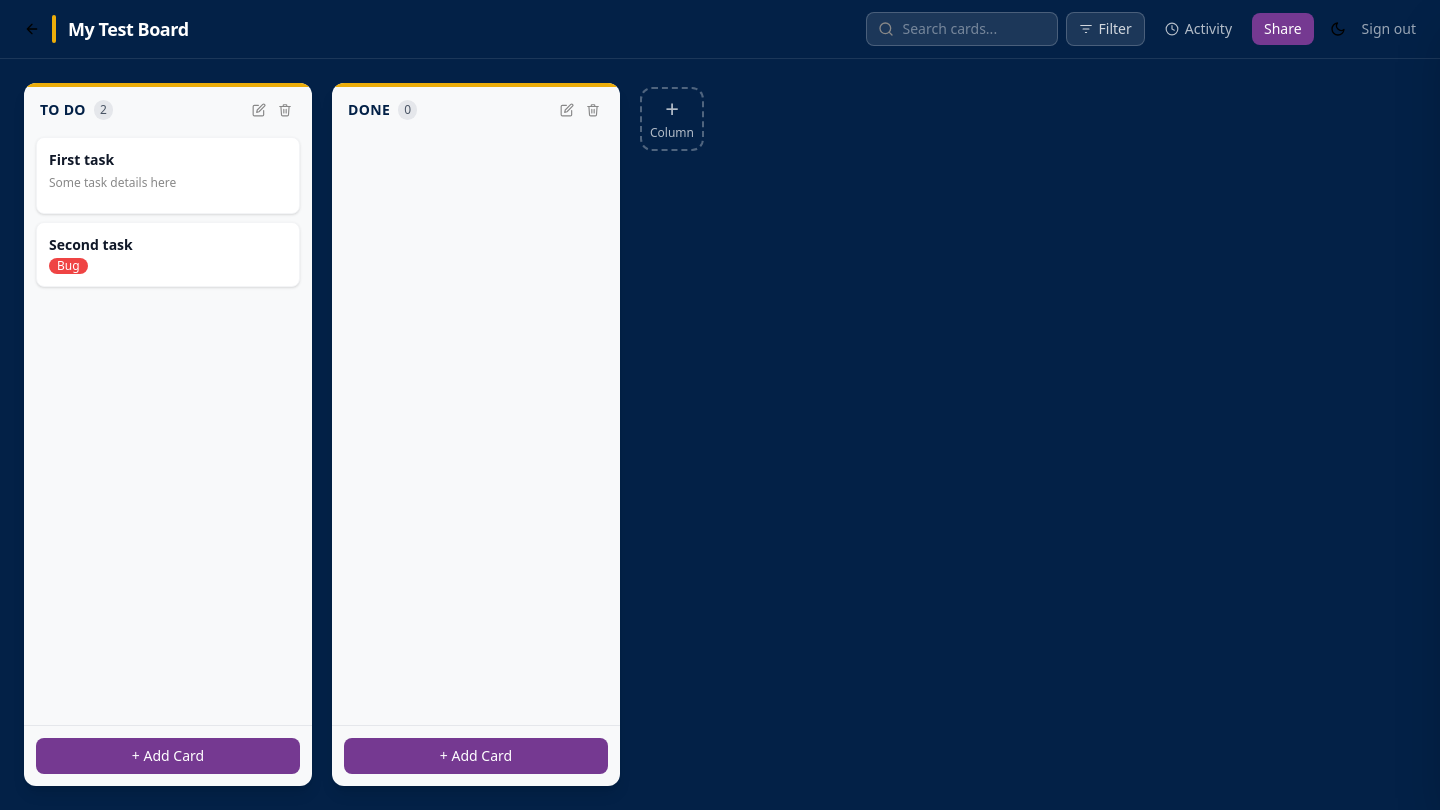
Test case: Board interactions › shows 'No details provided.' placeholder in modal when card has no details
The image size is (1440, 810).
Click the heading "Second task" at [91, 244], box [49,235,133,254]
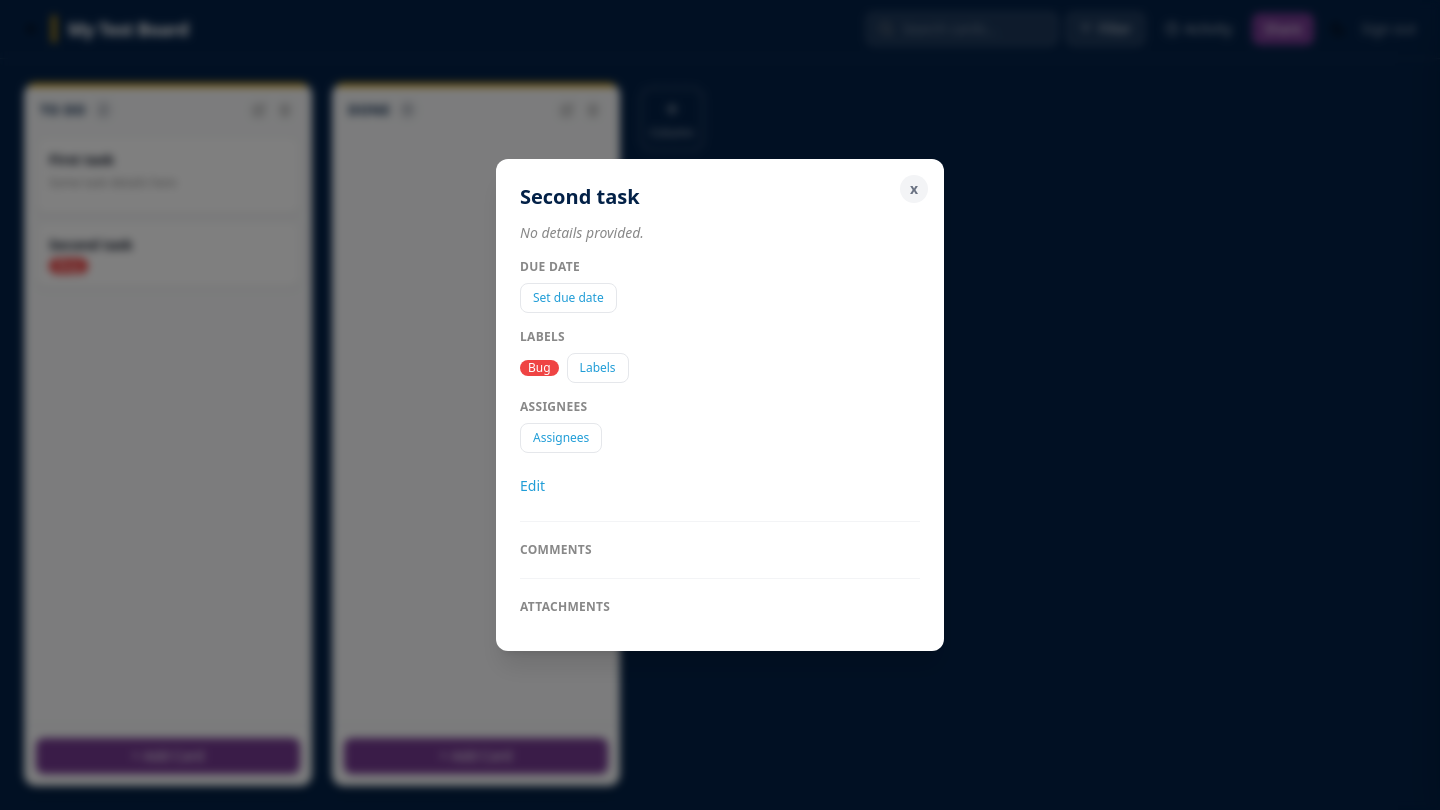
Check: the text "No details provided." is shown, box [520,223,644,242]
